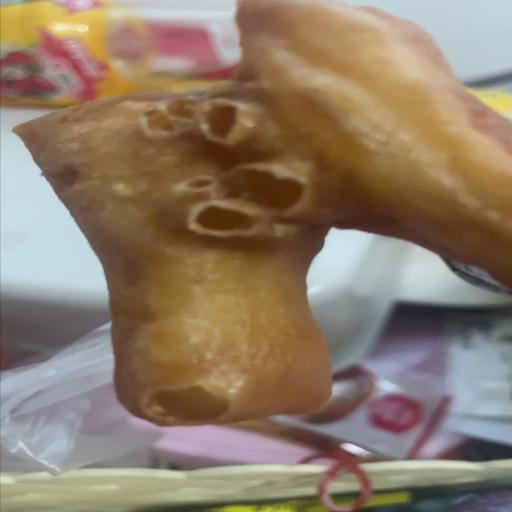street_burnt_defect: (13, 0, 512, 426)
